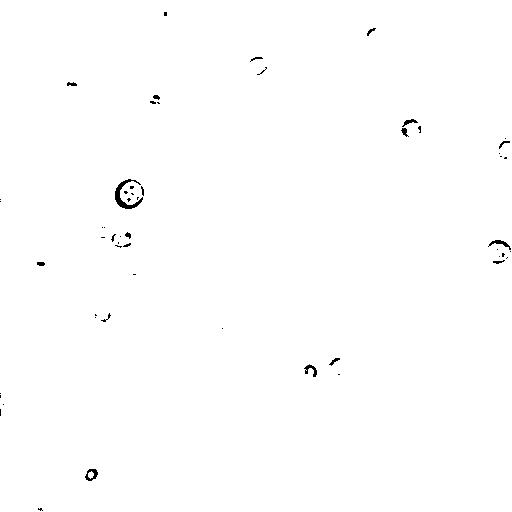micro-algae: (473, 10, 512, 101), (376, 55, 417, 100), (82, 211, 121, 253), (16, 299, 49, 336), (113, 178, 147, 210), (27, 246, 61, 275), (58, 75, 87, 104), (135, 241, 161, 269), (123, 267, 153, 291), (485, 239, 512, 265), (1, 387, 23, 418), (326, 356, 353, 379), (400, 118, 425, 141), (111, 227, 135, 249), (245, 55, 270, 75), (91, 302, 113, 324), (496, 135, 511, 161), (155, 3, 174, 23), (367, 23, 386, 43), (300, 363, 317, 381), (83, 467, 100, 482), (29, 503, 58, 511)
